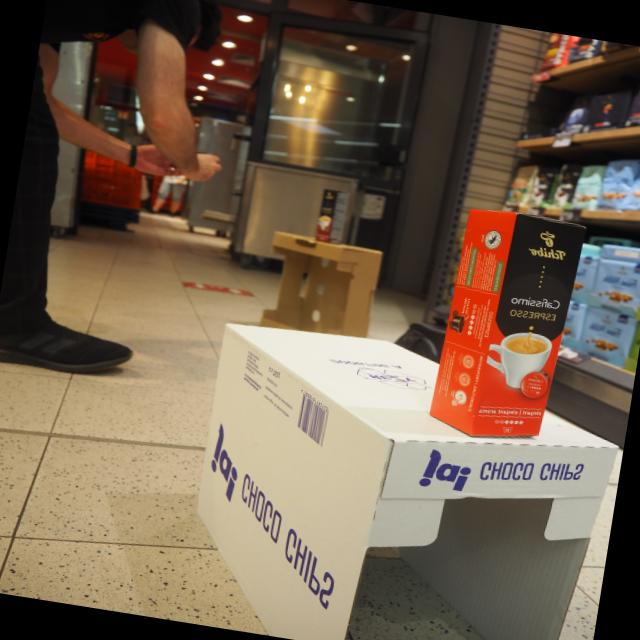Simo Es Elegant: (422, 203, 590, 441)
